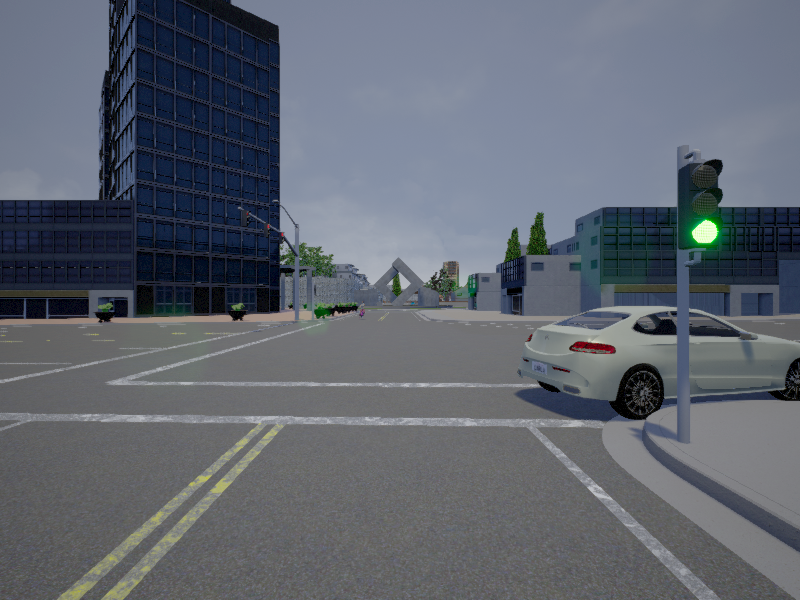Benign: (520, 304, 800, 421)
